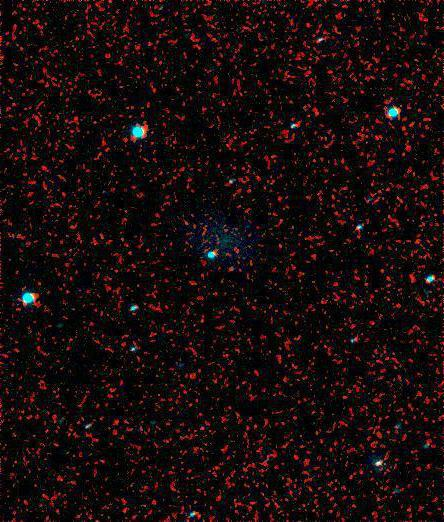star: (174, 208, 204, 238)
